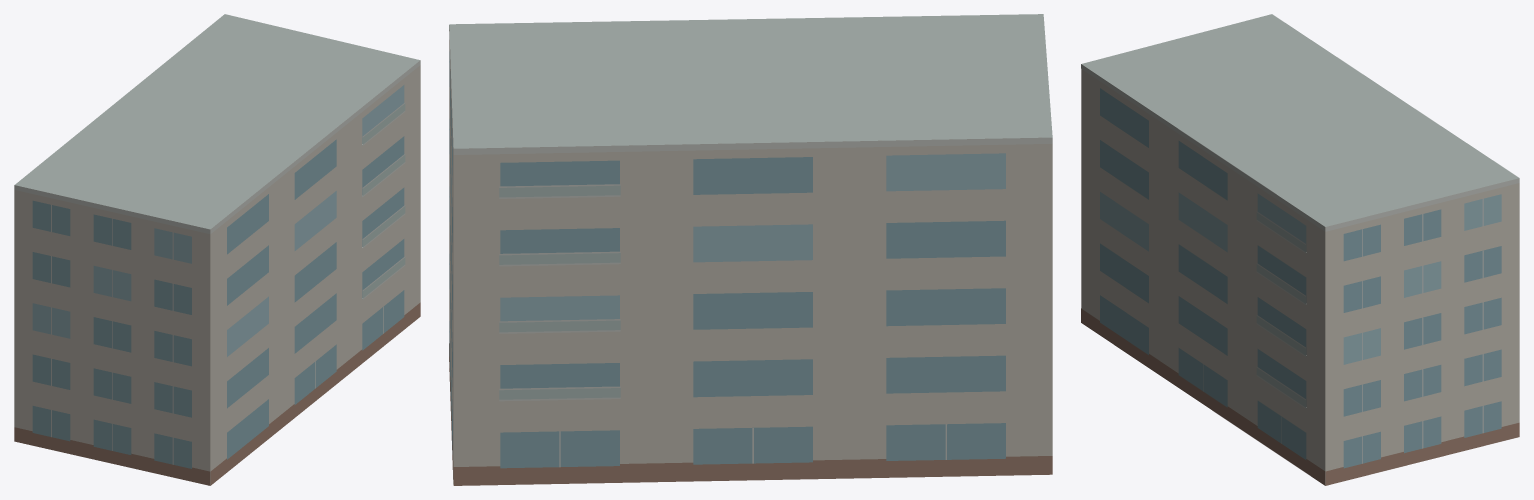
The model's file is survey-upis-32909823.glb.
3 views of the same model, side by side, from view 1: azimuth 30°, elevation 25°; view 2: azimuth 150°, elevation 25°; view 3: azimuth 270°, elevation 25° (orthographic). The views are drawn at different scales.
Visible parts, largest first — view 1: survey-upis-32909823.tmp; view 2: survey-upis-32909823.tmp; view 3: survey-upis-32909823.tmp.
Boxes of the visible parts, x1,y1,x2,y2 form: survey-upis-32909823.tmp: (14,14,420,485); survey-upis-32909823.tmp: (449,14,1052,485); survey-upis-32909823.tmp: (1081,14,1519,485).
Size of the model in its own units: 23.13 by 13.1 by 20.12.
